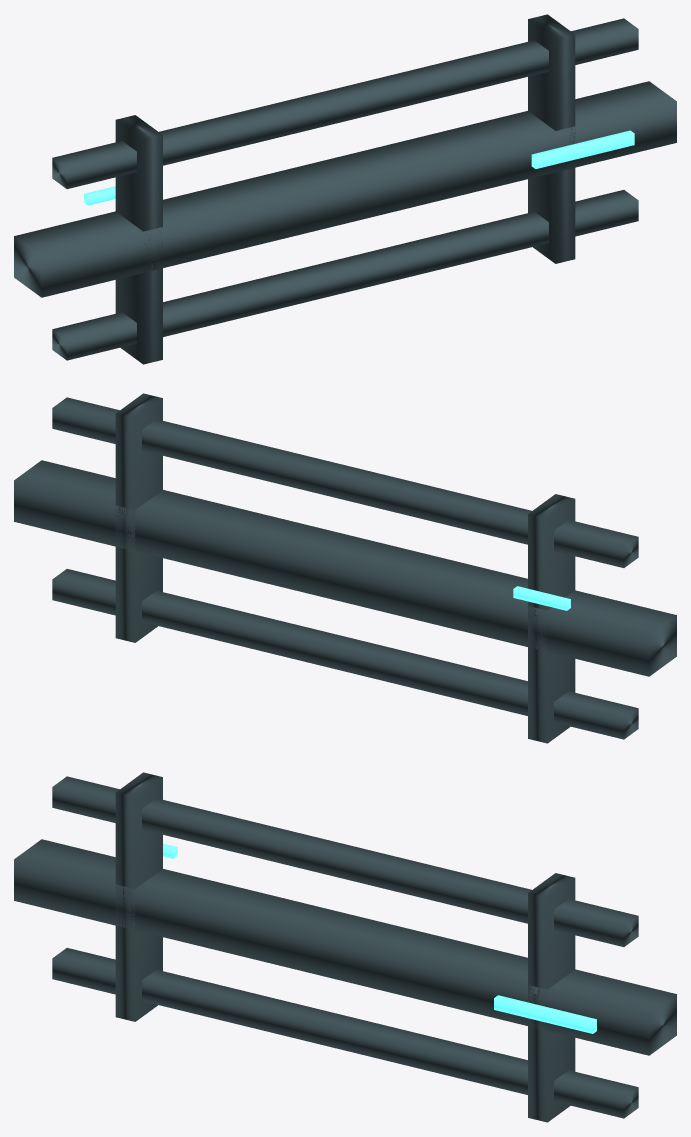
File: spin-habitat-spoke-truss-lod1.glb
The picture shows the model from 3 angles, top to bottom: view 1: azimuth 30°, elevation 25°; view 2: azimuth 150°, elevation 25°; view 3: azimuth 330°, elevation 25°; orthographic projection.
Parts seen in each view (by area): view 1: spin-habitat-spoke-truss-main, spin-habitat-spoke-truss-upper, spin-habitat-spoke-truss-lower, spin-habitat-spoke-truss-cross-brace-b, spin-habitat-spoke-truss-cross-brace-a, spin-habitat-spoke-truss-status; view 2: spin-habitat-spoke-truss-main, spin-habitat-spoke-truss-upper, spin-habitat-spoke-truss-lower, spin-habitat-spoke-truss-cross-brace-b, spin-habitat-spoke-truss-cross-brace-a, spin-habitat-spoke-truss-service-light; view 3: spin-habitat-spoke-truss-main, spin-habitat-spoke-truss-upper, spin-habitat-spoke-truss-lower, spin-habitat-spoke-truss-cross-brace-a, spin-habitat-spoke-truss-cross-brace-b, spin-habitat-spoke-truss-status.
Part boxes in pixels (x1,y1,x2,y2): spin-habitat-spoke-truss-main: (14, 81, 676, 297); spin-habitat-spoke-truss-upper: (52, 18, 638, 188); spin-habitat-spoke-truss-lower: (52, 190, 638, 360); spin-habitat-spoke-truss-cross-brace-b: (528, 14, 575, 263); spin-habitat-spoke-truss-cross-brace-a: (115, 115, 162, 364); spin-habitat-spoke-truss-status: (531, 130, 634, 168); spin-habitat-spoke-truss-main: (14, 460, 676, 676); spin-habitat-spoke-truss-upper: (52, 397, 638, 567); spin-habitat-spoke-truss-lower: (52, 569, 638, 739); spin-habitat-spoke-truss-cross-brace-b: (115, 393, 162, 642); spin-habitat-spoke-truss-cross-brace-a: (528, 494, 575, 743); spin-habitat-spoke-truss-service-light: (513, 586, 570, 610); spin-habitat-spoke-truss-main: (14, 839, 676, 1055); spin-habitat-spoke-truss-upper: (52, 776, 638, 946); spin-habitat-spoke-truss-lower: (52, 948, 638, 1118); spin-habitat-spoke-truss-cross-brace-a: (115, 772, 162, 1021); spin-habitat-spoke-truss-cross-brace-b: (528, 873, 575, 1122); spin-habitat-spoke-truss-status: (494, 995, 596, 1033).
Size of the model in its own units: 4.5 by 1.52 by 0.5.
